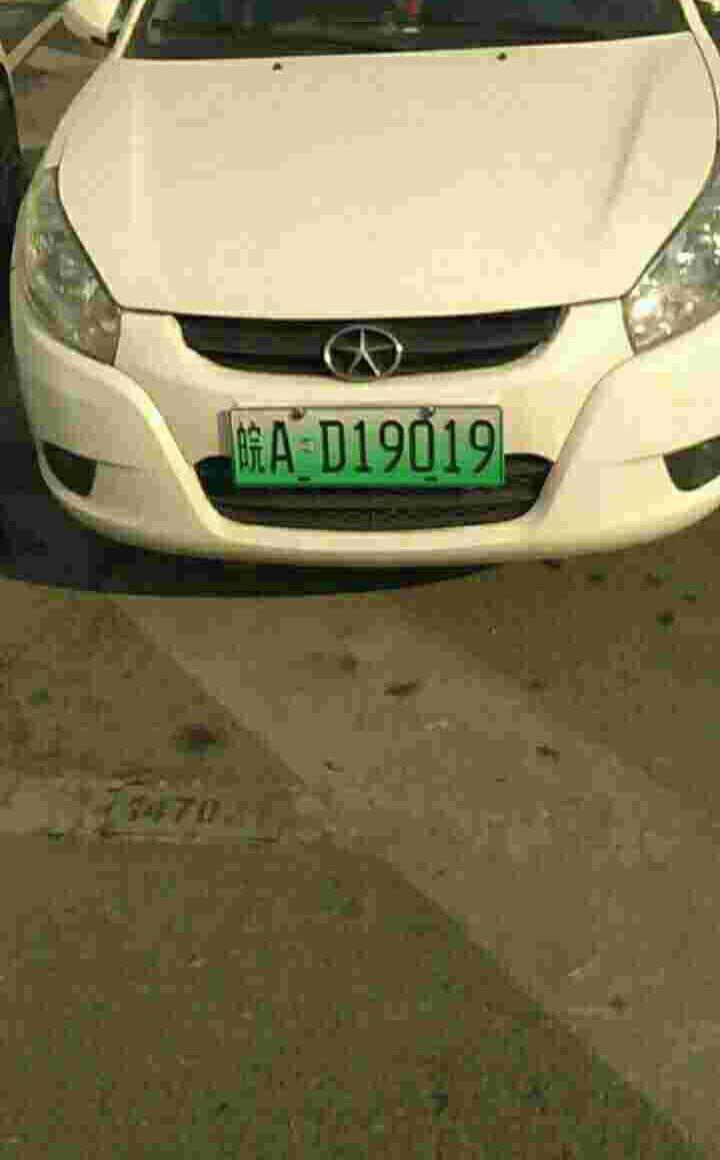car_green: (227, 405, 506, 494)
